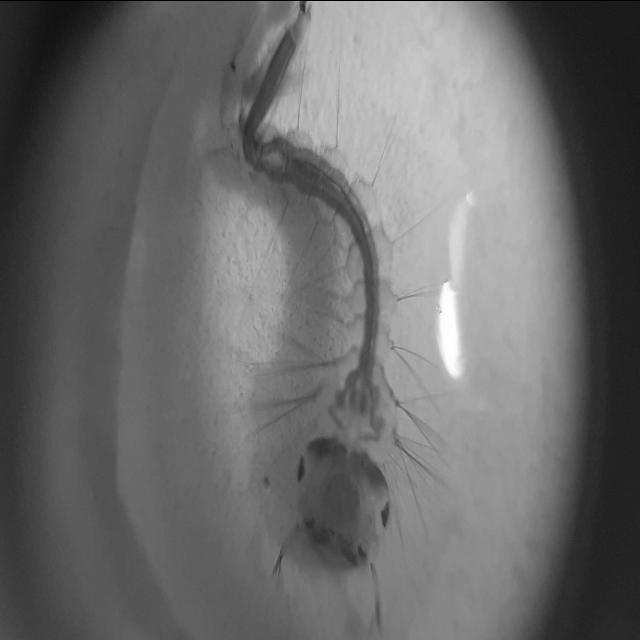larvas: (237, 22, 400, 568)
